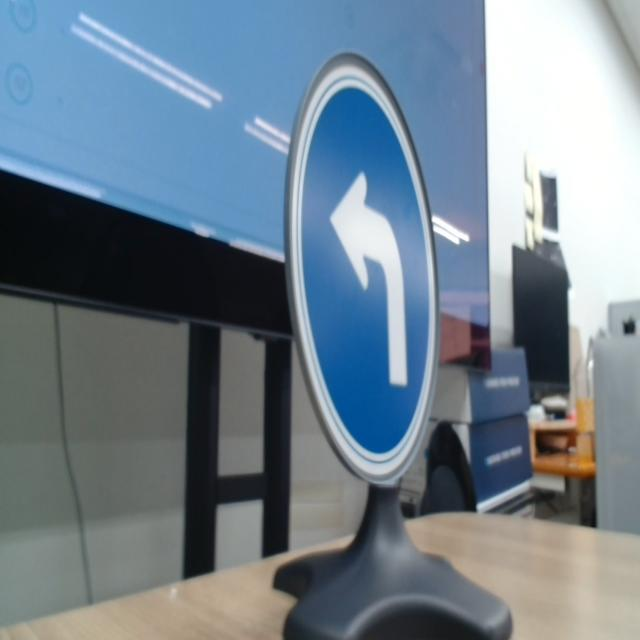left_direction: (272, 52, 460, 500)
